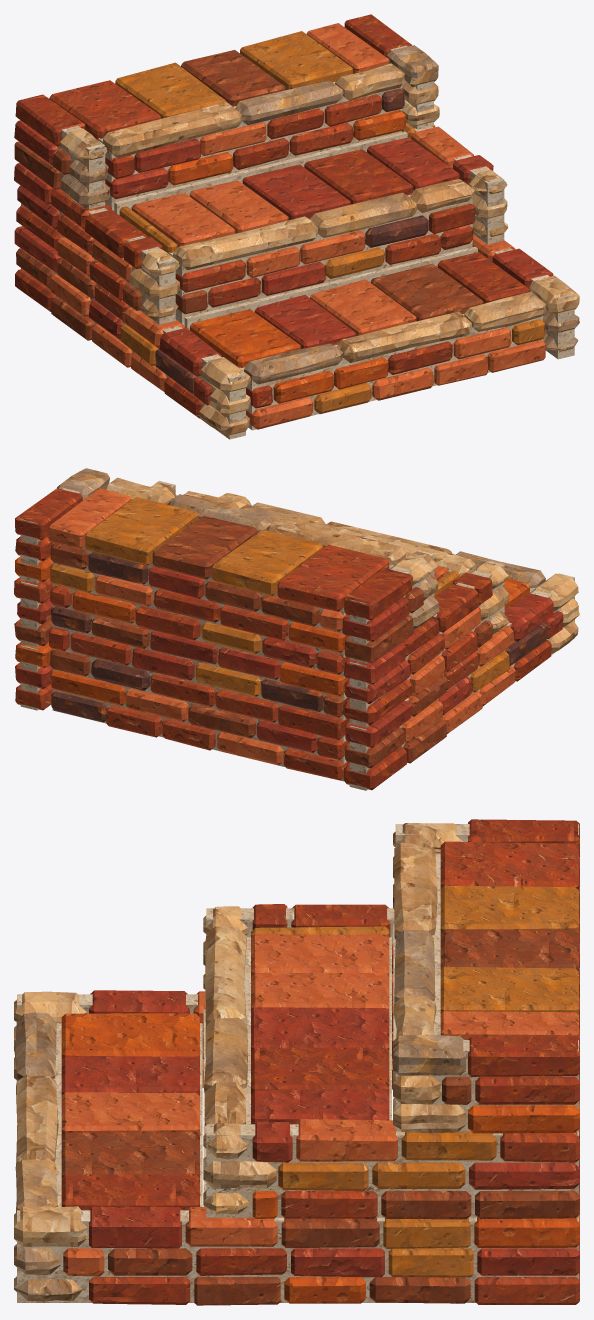
File: foundation_steps__clay_brick.glb
The picture shows the model from 3 angles, top to bottom: view 1: azimuth 30°, elevation 25°; view 2: azimuth 150°, elevation 25°; view 3: azimuth 270°, elevation 25°; orthographic projection. The views are drawn at different scales.
Visible parts, largest first — view 1: model; view 2: model; view 3: model.
Boxes of the visible parts, x1,y1,x2,y2 form: model: (14,14,579,439); model: (14,468,579,790); model: (14,819,579,1305).
Size of the model in its own units: 1.97 by 0.986 by 1.98.
13 materials, 13 textured.
